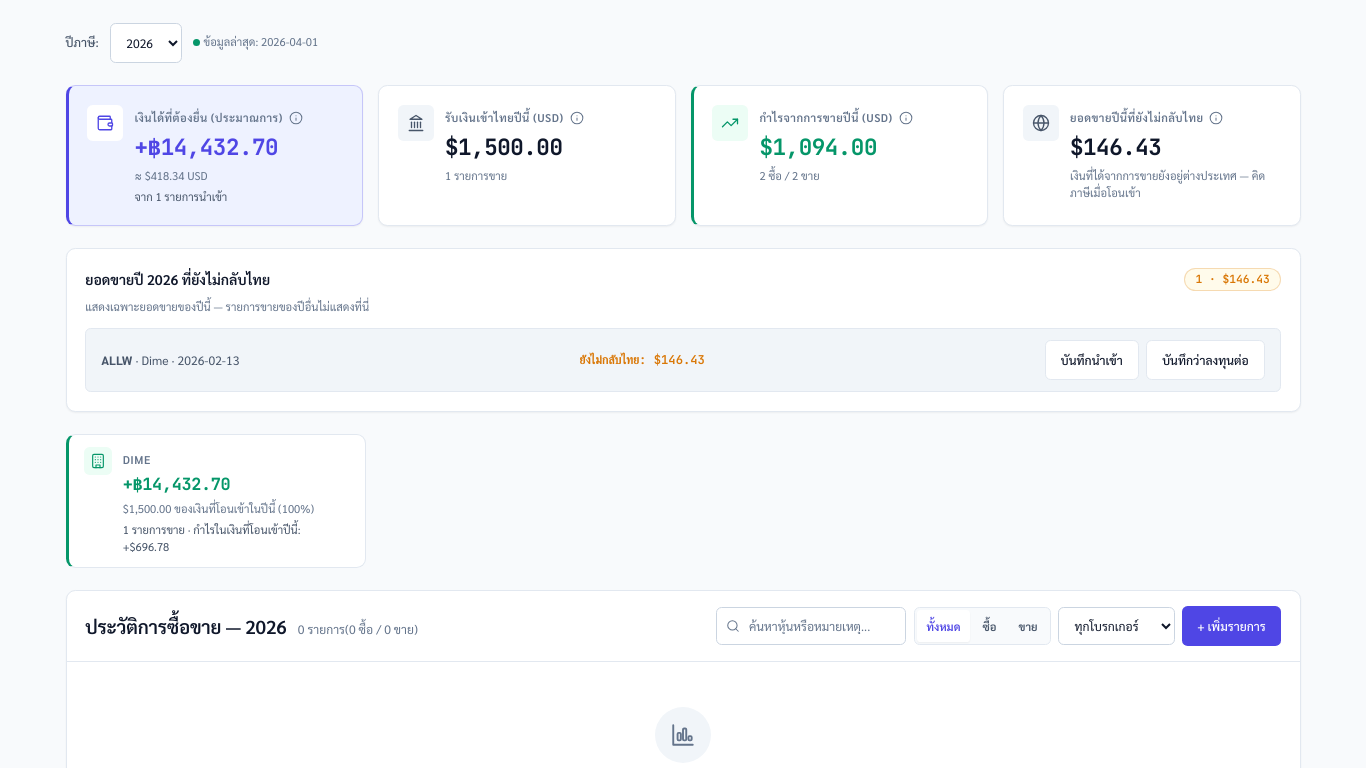
Scenario: TradesTab — assessable-income wording › explains the exemption and the method in the tooltip
Click the button with class "tooltip-trigger" next to "เงินได้ที่ต้องยื่น (ประมาณการ)" at (296, 118), box [287,109,305,127]
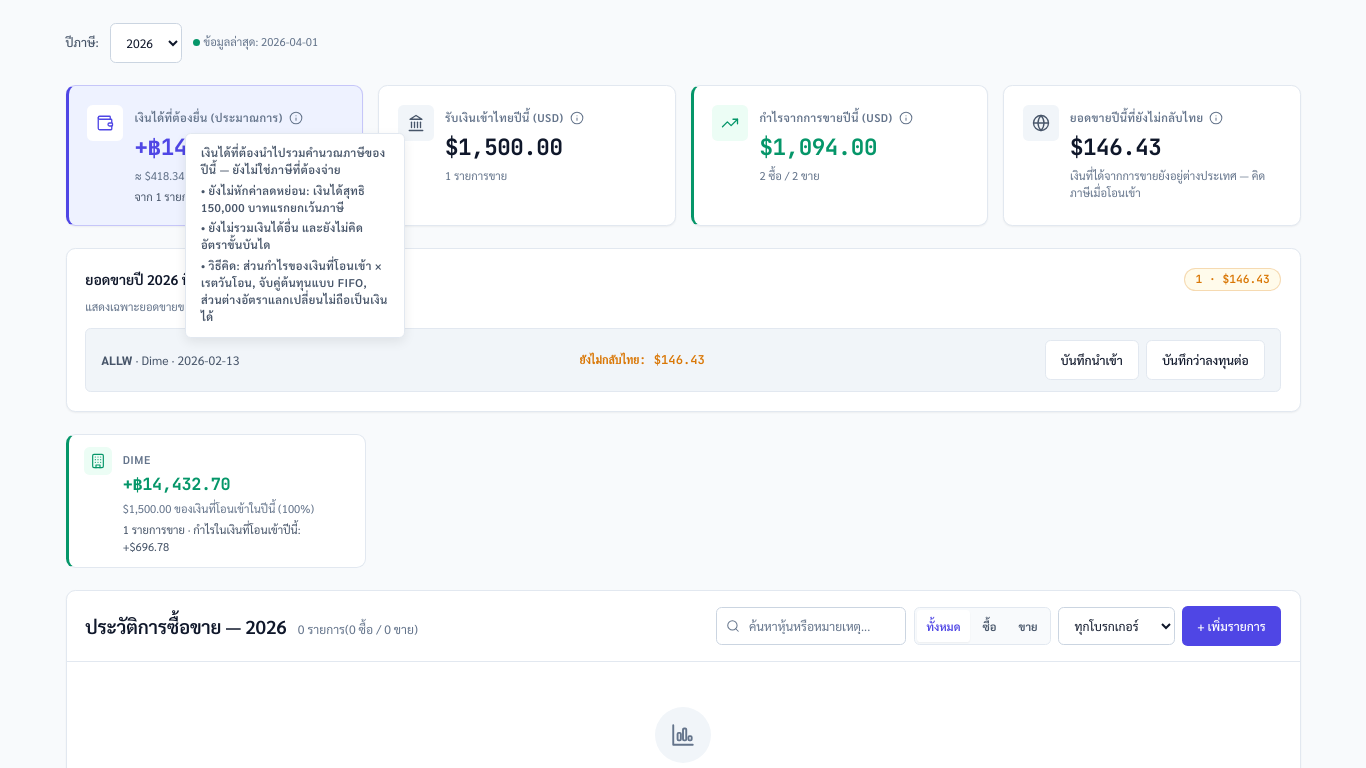
Result: the element with class "tooltip-content" shows "150,000" at [201,183,365,215]
Result: the element with class "tooltip-content" shows "FIFO" at [201,258,388,324]
Result: the element with class "tooltip-content" shows "ไม่ใช่ภาษีที่ต้องจ่าย" at [201,145,386,177]
